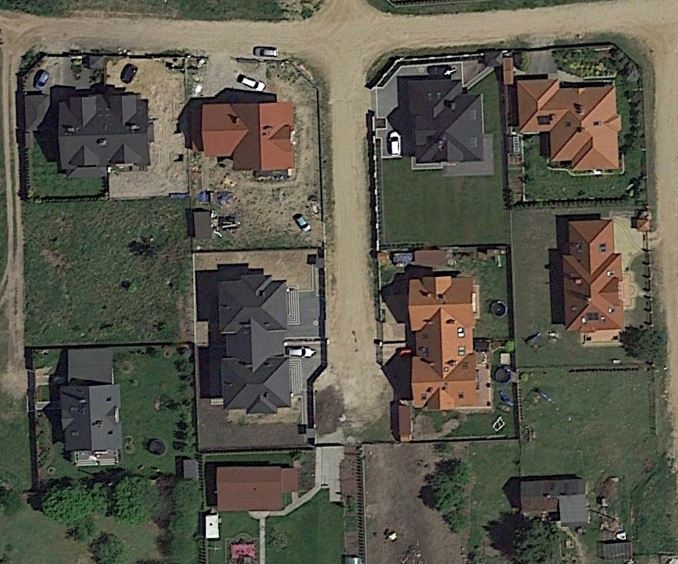family house: (515, 76, 626, 179), (56, 346, 135, 469), (192, 91, 298, 173), (555, 217, 628, 333), (402, 74, 487, 165), (211, 464, 311, 514)
garage: (513, 470, 595, 527)
terrace house: (206, 268, 304, 418), (399, 273, 487, 416), (51, 87, 156, 180)
